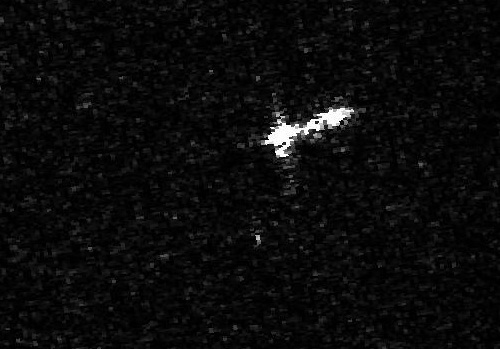ship: (265, 103, 350, 155)
